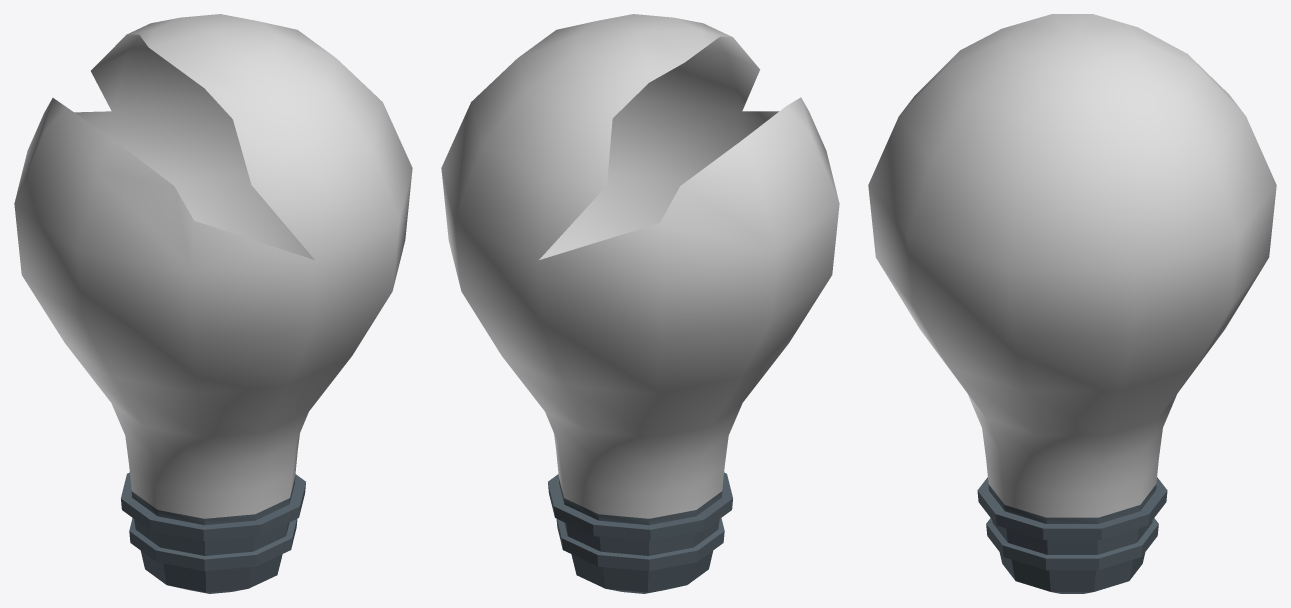
The model's file is LightBulb.fbx.
3 renders of one model, left to right at view 1: azimuth 30°, elevation 25°; view 2: azimuth 150°, elevation 25°; view 3: azimuth 270°, elevation 25°, orthographic.
Parts seen in each view (by area): view 1: Junk_Lightbulb; view 2: Junk_Lightbulb; view 3: Junk_Lightbulb.
Boxes of the visible parts, <box> form: Junk_Lightbulb: <box>14,14,412,593</box>; Junk_Lightbulb: <box>441,14,839,593</box>; Junk_Lightbulb: <box>868,14,1276,593</box>.
Size of the model in its own units: 1.04 by 1.63 by 1.09.
